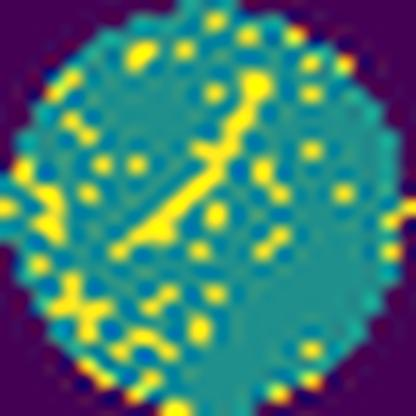Scratch: (106, 66, 276, 267)
